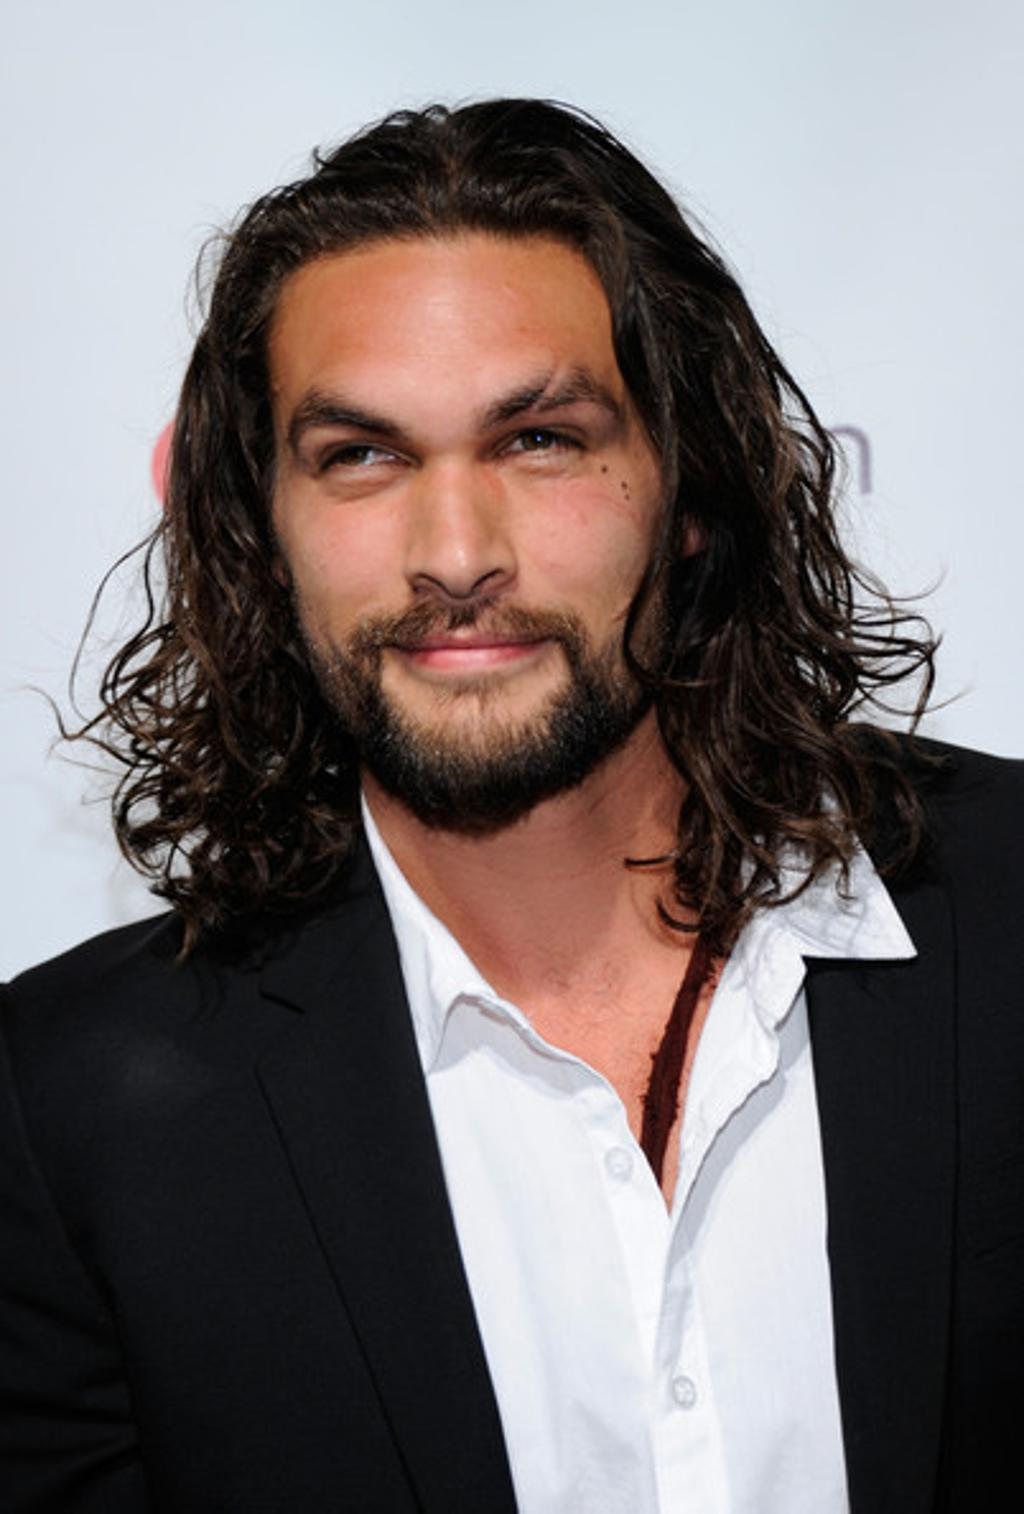face: (277, 245, 655, 782)
